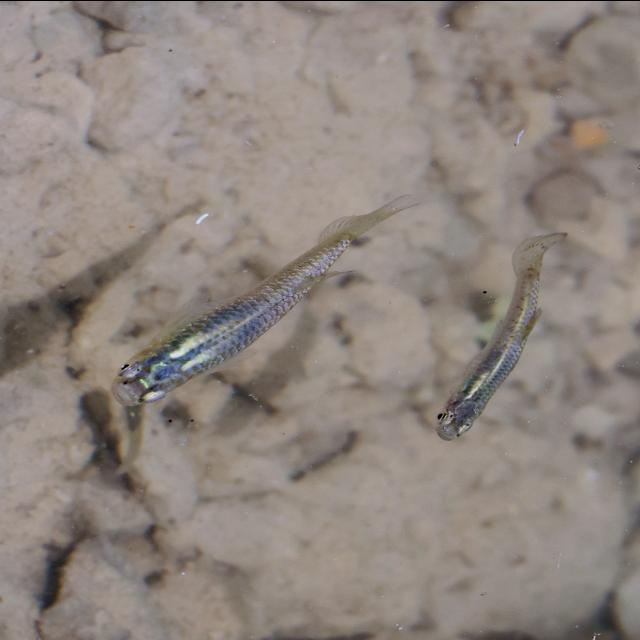Sivrisinek Baligi: (104, 190, 428, 416), (432, 230, 562, 438)
